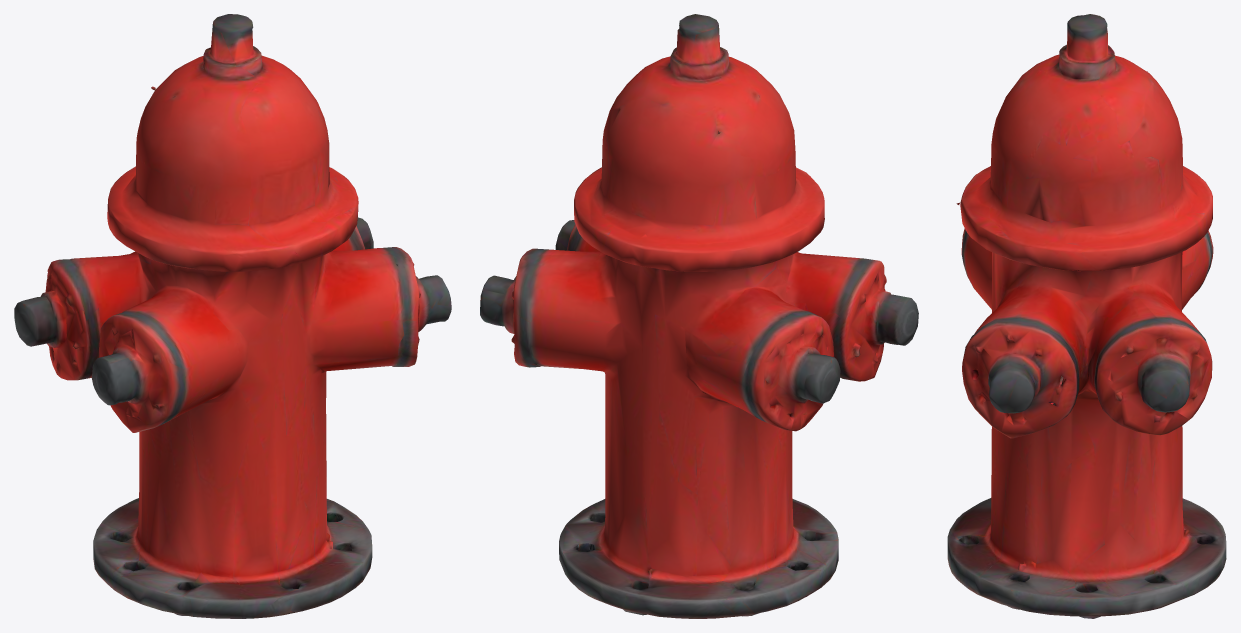
File: prop_fire_hydrant_01.glb
The picture shows the model from 3 angles, left to right: view 1: azimuth 30°, elevation 25°; view 2: azimuth 150°, elevation 25°; view 3: azimuth 270°, elevation 25°; orthographic projection.
Bounding box in the file's own units: 1.32 × 2 × 0.9286.
Materials: 1 (1 with a texture image).
